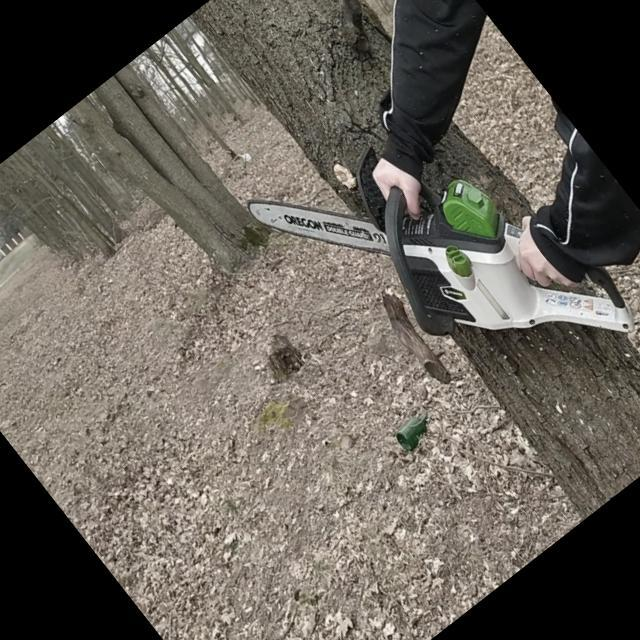Chainsaw: (238, 48, 640, 479)
